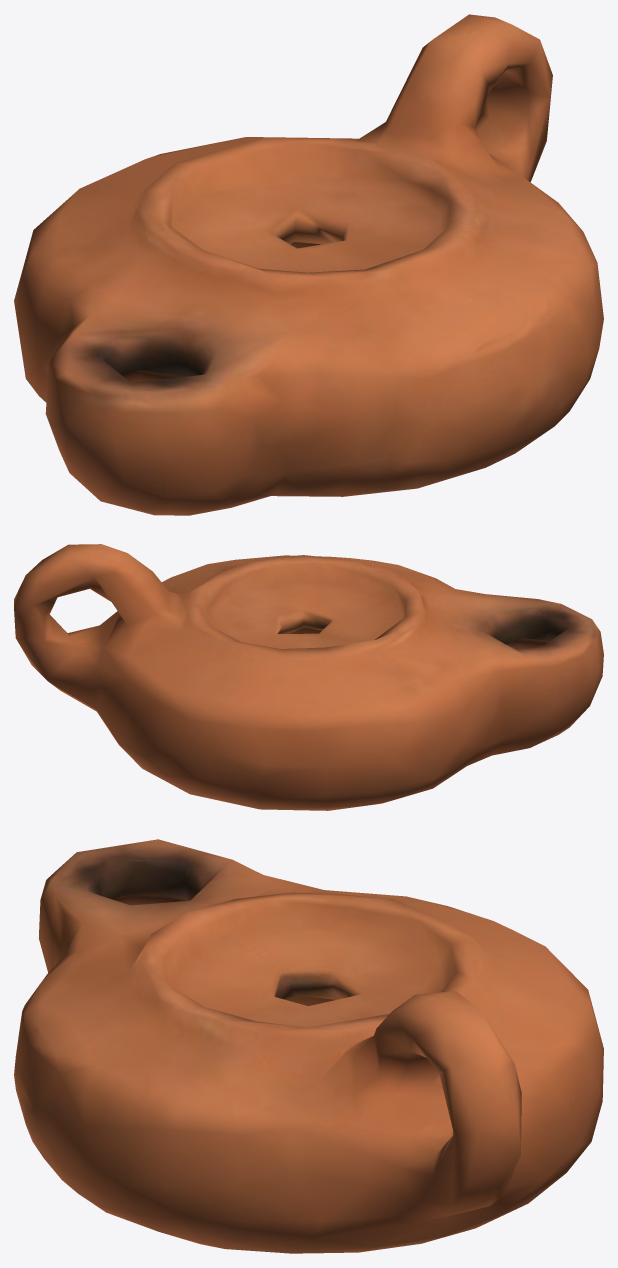
File: oil_lamp.glb
The picture shows the model from 3 angles, top to bottom: view 1: azimuth 30°, elevation 25°; view 2: azimuth 150°, elevation 25°; view 3: azimuth 270°, elevation 25°; orthographic projection. The views are drawn at different scales.
Visible parts, largest first — view 1: tripo_node_b3feece6-700e-427d-bb1a-e376f6d711e6; view 2: tripo_node_b3feece6-700e-427d-bb1a-e376f6d711e6; view 3: tripo_node_b3feece6-700e-427d-bb1a-e376f6d711e6.
Boxes of the visible parts, x1,y1,x2,y2 form: tripo_node_b3feece6-700e-427d-bb1a-e376f6d711e6: (14,14,603,515); tripo_node_b3feece6-700e-427d-bb1a-e376f6d711e6: (14,544,603,810); tripo_node_b3feece6-700e-427d-bb1a-e376f6d711e6: (14,839,603,1253).
Size of the model in its own units: 0.9822 by 0.3838 by 0.76.
1 material, 1 textured.
